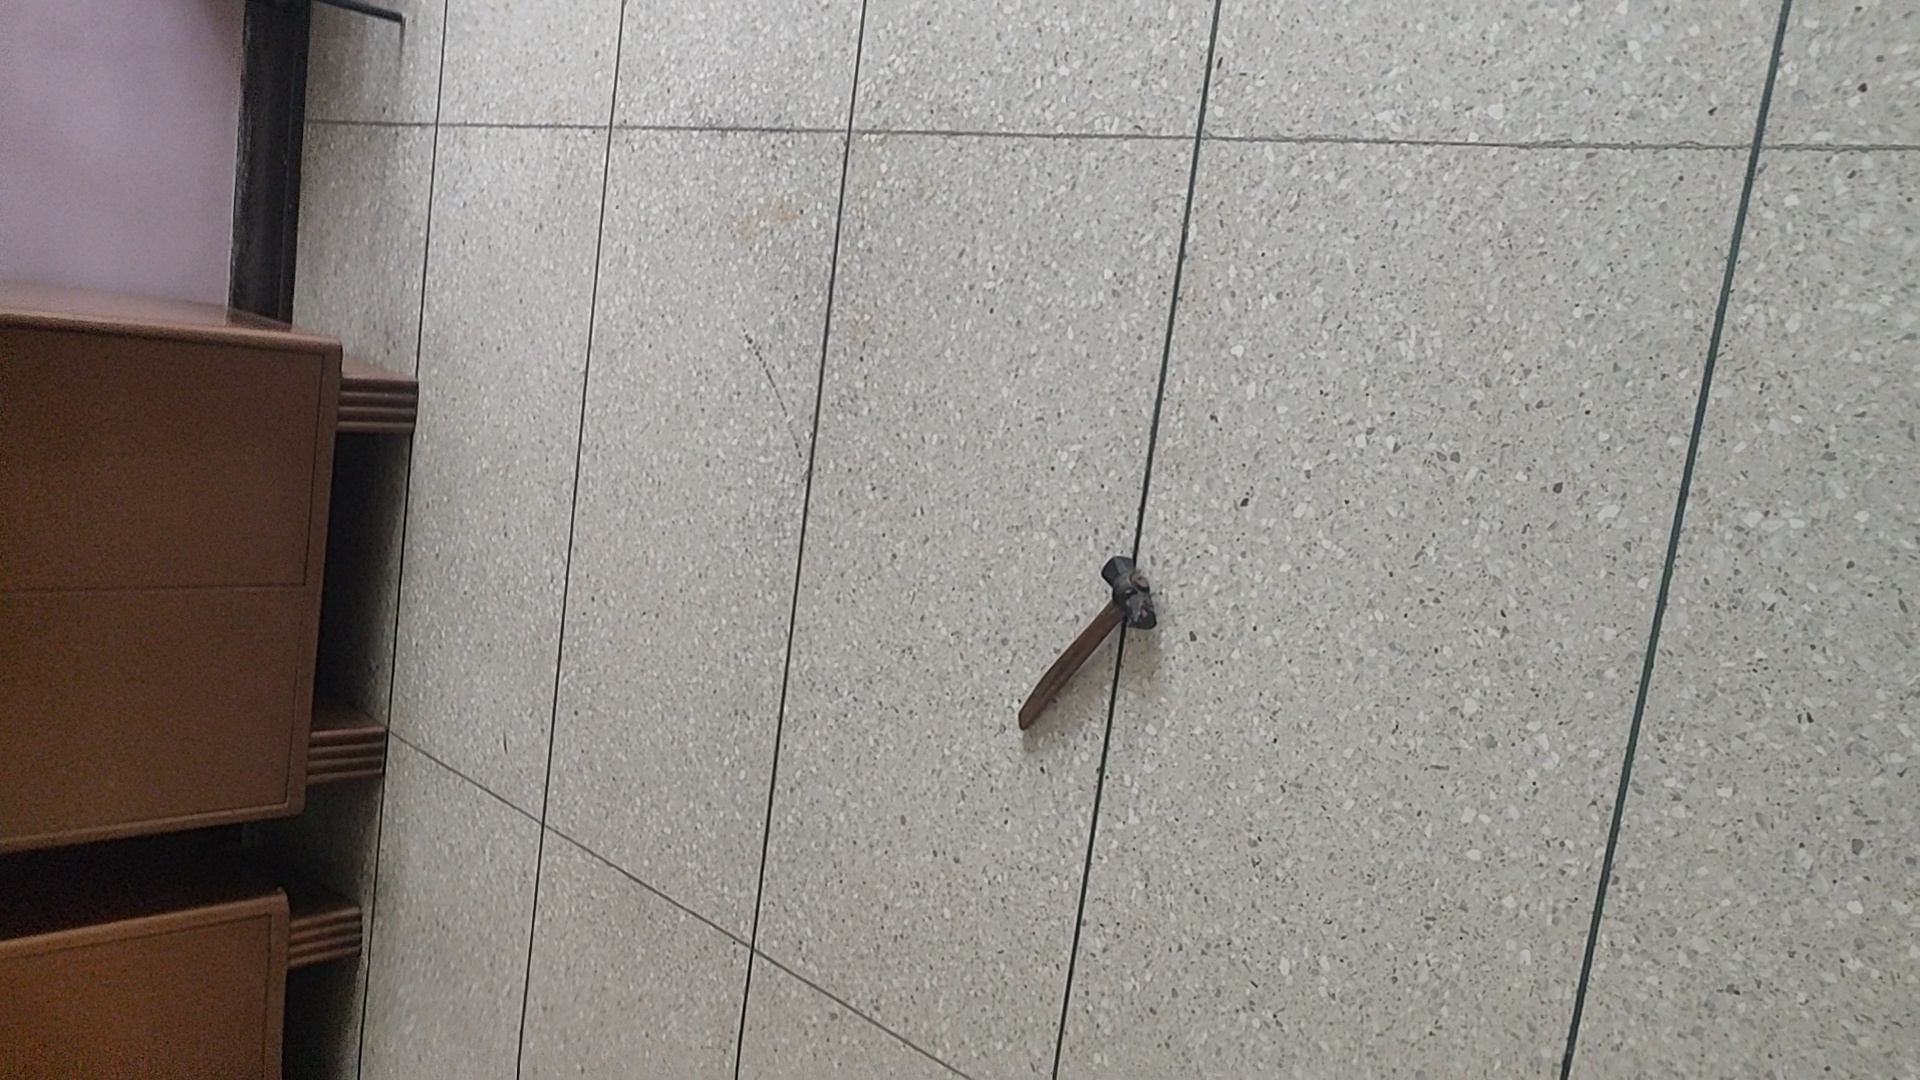hammer: (1006, 553, 1156, 736)
